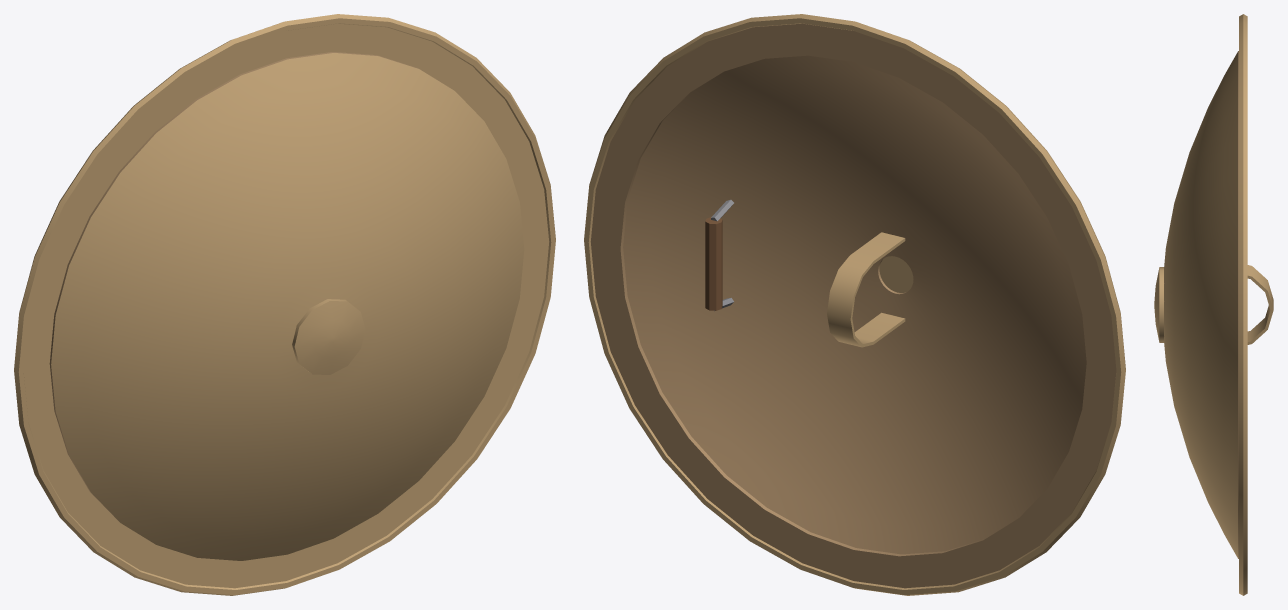
The model's file is aspis.glb.
3 renders of one model, left to right at view 1: azimuth 30°, elevation 25°; view 2: azimuth 150°, elevation 25°; view 3: azimuth 270°, elevation 25°, orthographic. The views are drawn at different scales.
Parts seen in each view (by area): view 1: OUT; view 2: OUT; view 3: OUT.
Boxes of the visible parts, box(x1,y1,x2,y2) form: OUT: box(14, 14, 555, 595); OUT: box(584, 14, 1125, 595); OUT: box(1154, 14, 1273, 595).
Size of the model in its own units: 0.916 by 0.916 by 0.1875.
